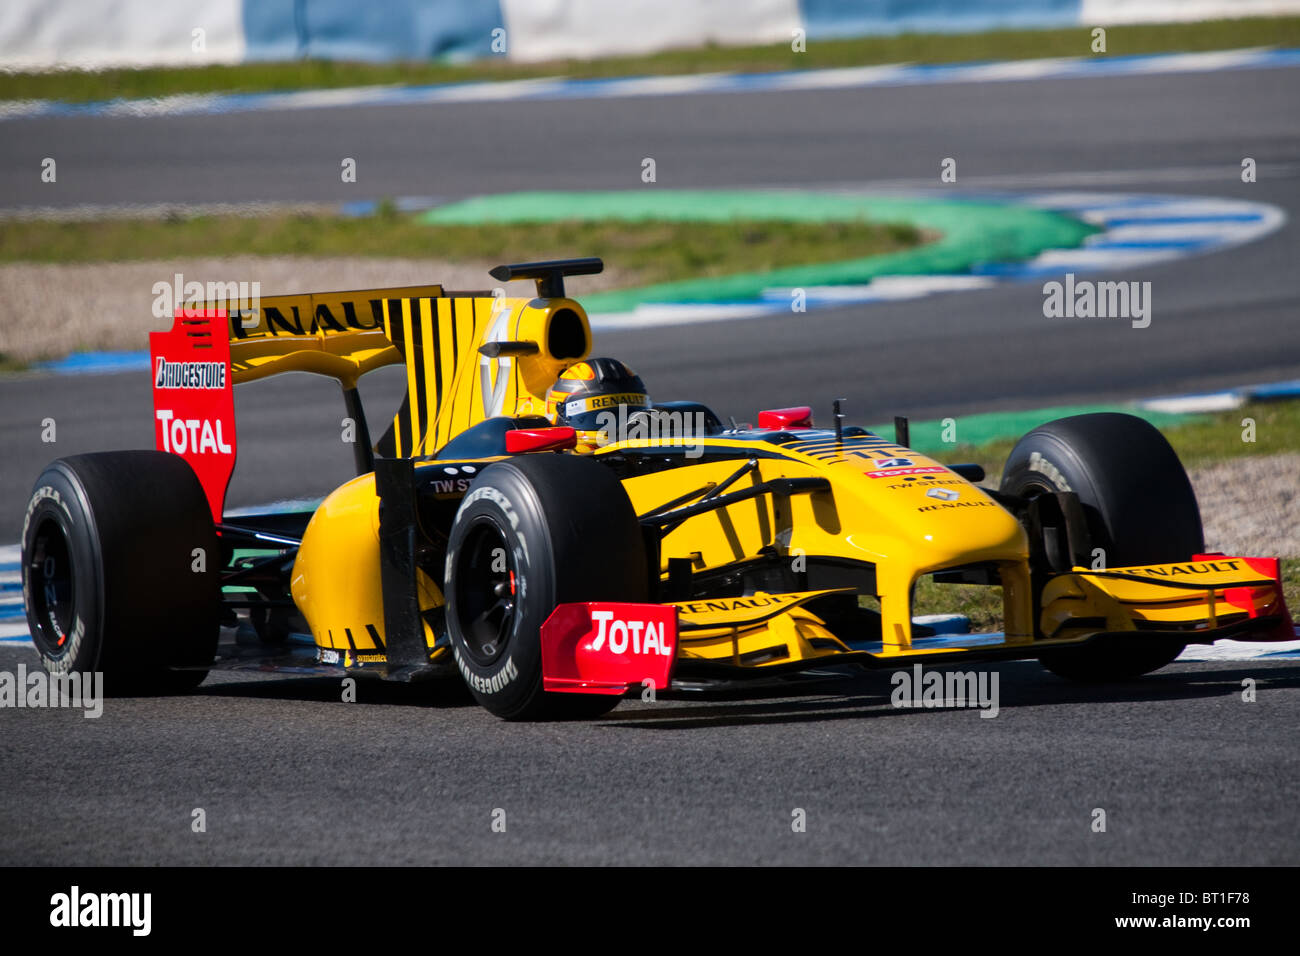Formule 1: (17, 285, 1300, 714)
